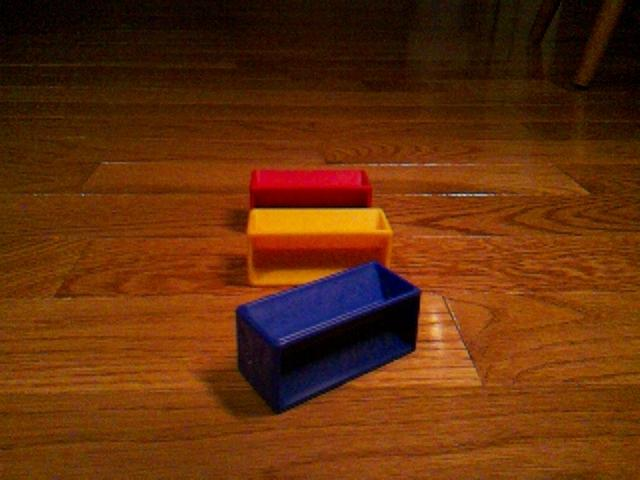blue: (234, 259, 423, 414)
red: (249, 167, 374, 208)
yellow: (246, 206, 394, 287)
